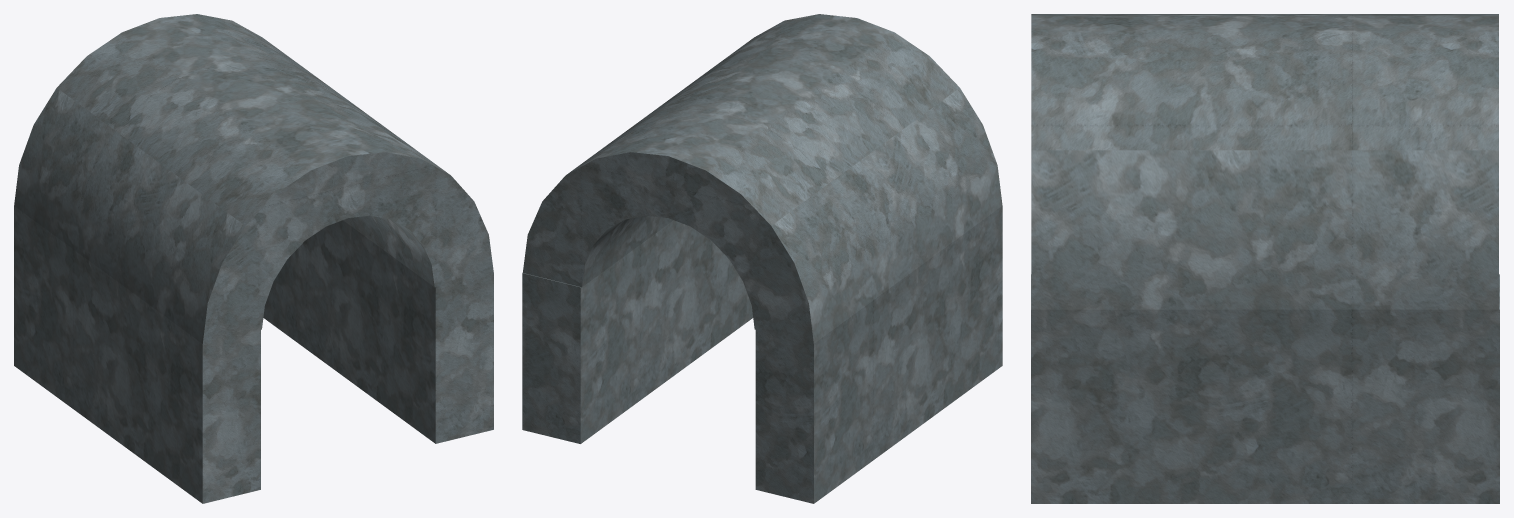
File: Tunnel_Face.glb
3 views of the same model, side by side, from view 1: azimuth 30°, elevation 25°; view 2: azimuth 150°, elevation 25°; view 3: azimuth 270°, elevation 25° (orthographic). The views are drawn at different scales.
Visible parts, largest first — view 1: mergedBlocks(Clone); view 2: mergedBlocks(Clone); view 3: mergedBlocks(Clone).
Boxes of the visible parts, x1,y1,x2,y2 form: mergedBlocks(Clone): (14,14,493,503); mergedBlocks(Clone): (522,14,1002,503); mergedBlocks(Clone): (1031,14,1499,503).
Size of the model in its own units: 1 by 1.03 by 1.12.
1 material, 1 textured.
